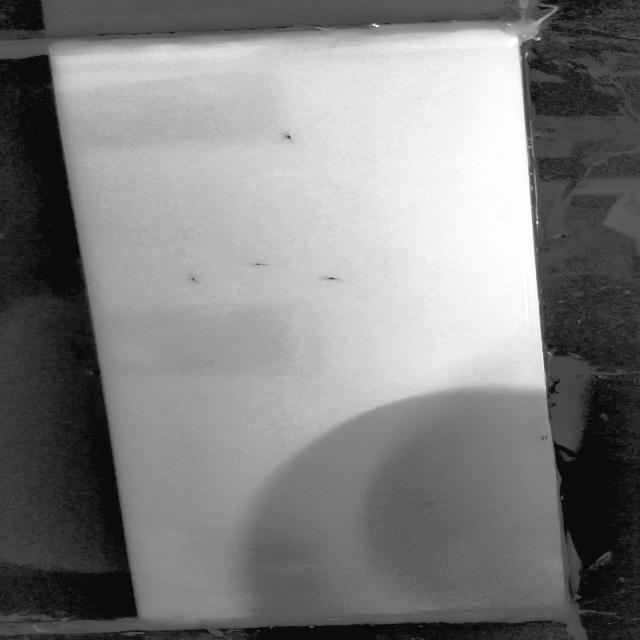shrimp: (408, 488, 454, 515), (312, 266, 352, 294), (267, 124, 310, 146), (232, 257, 284, 275), (177, 268, 211, 290), (521, 427, 554, 447)
